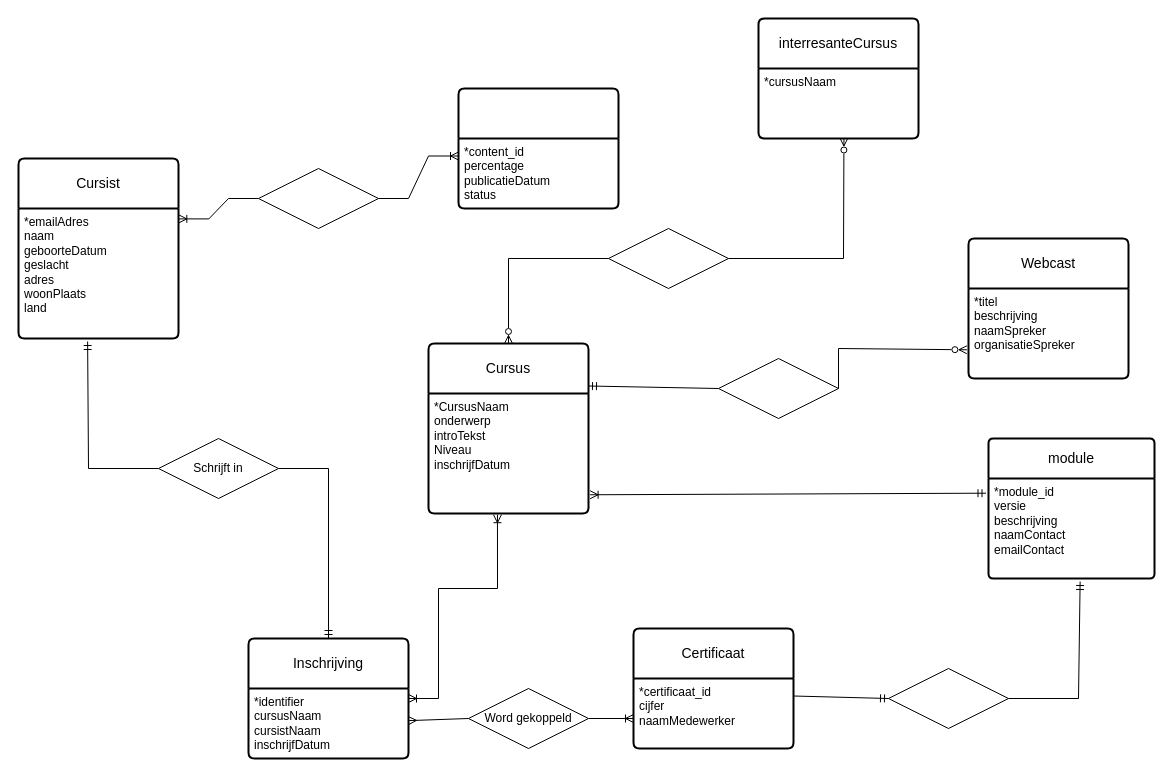
This 1172x776 diagram has some shape labels left out. The shapes that lost their labels are listed below. From the top down, each one's box as (x1, y1, x2, y2) in pixels, then its label:
(457, 87, 619, 209): contentItems
(258, 168, 378, 228): Kijkt Content
(608, 228, 728, 288): Houd bij
(718, 358, 838, 418): Kijkt
(888, 668, 1008, 728): Module afgerond
